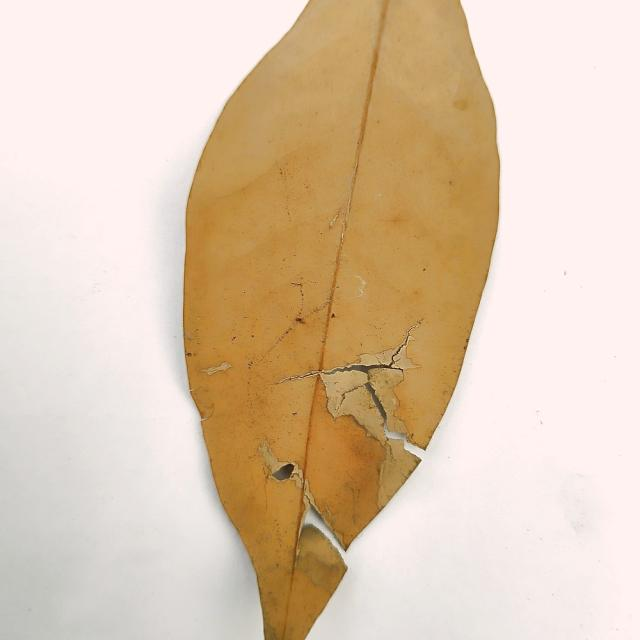Dry_Leaf-Lychee: (181, 0, 501, 639)
